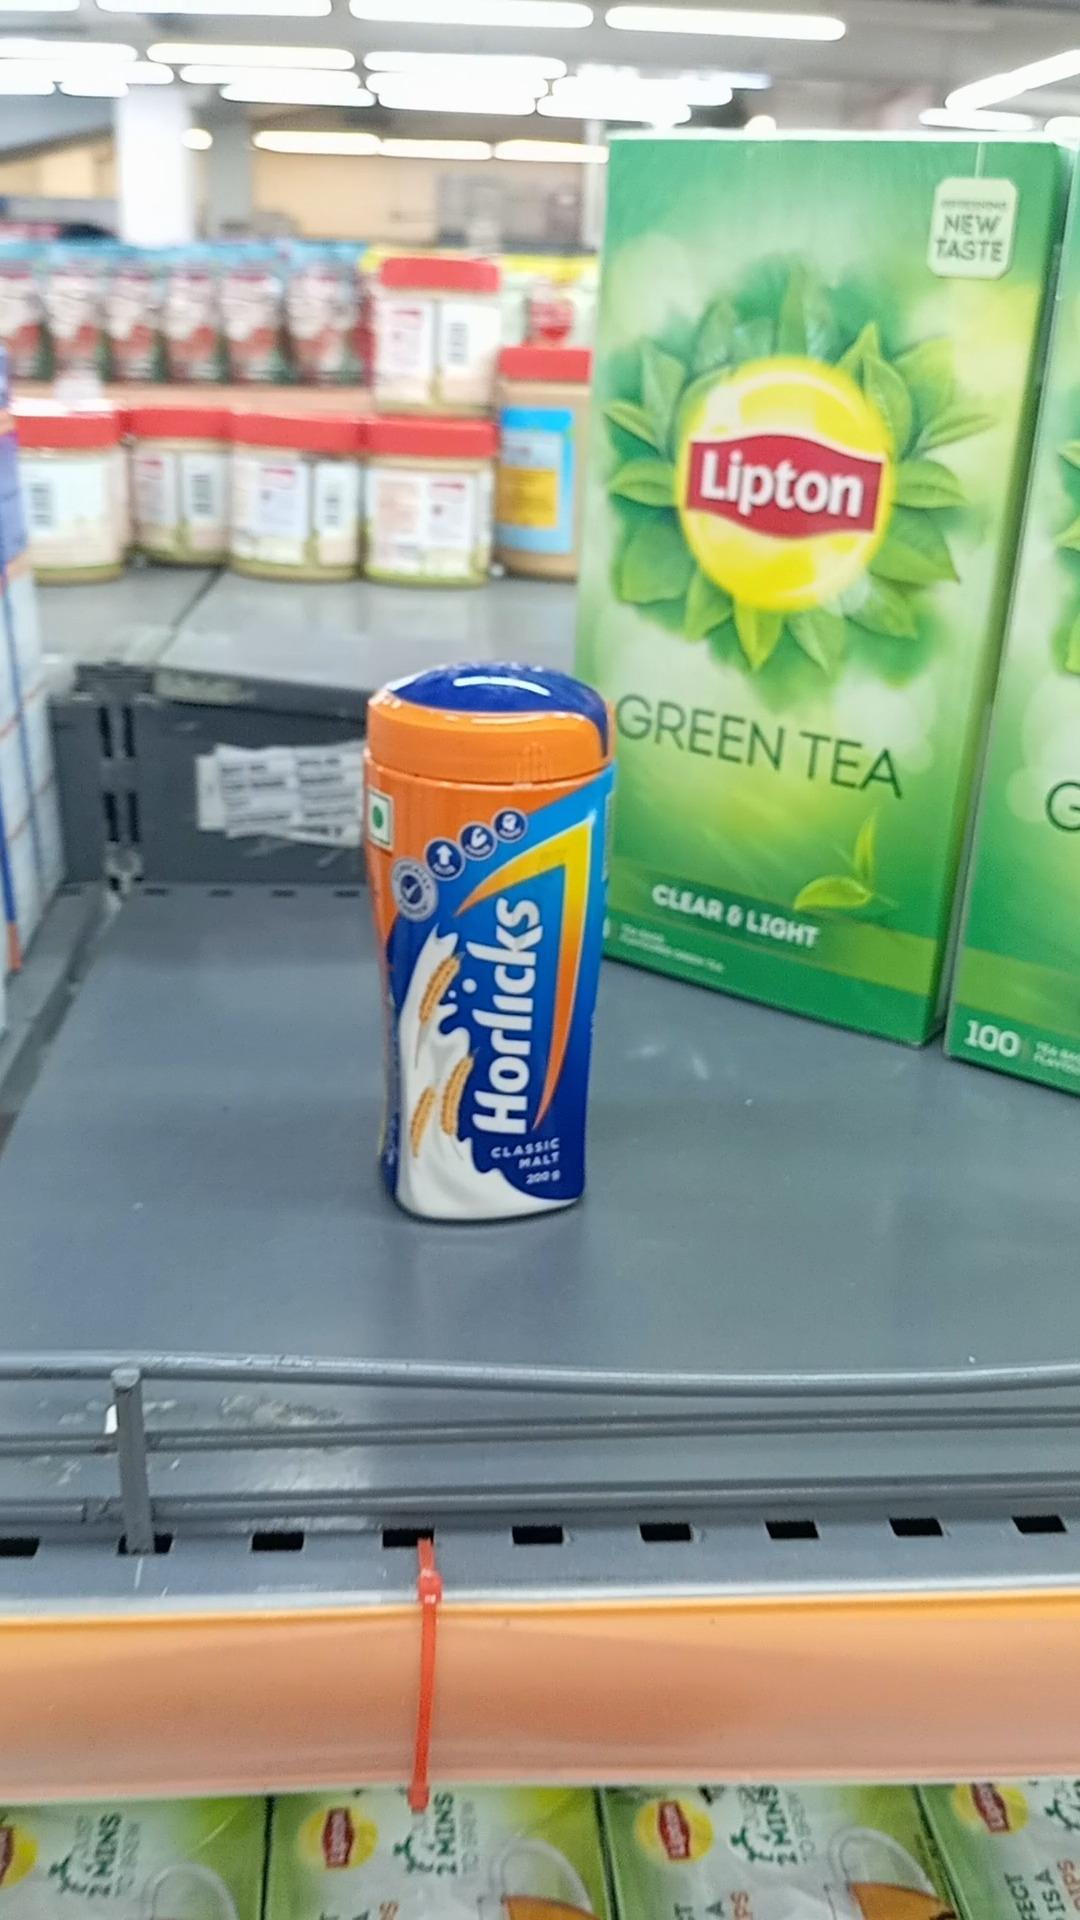HORLICK_CLASSIC_MALT_200_G_JAR: (365, 663, 613, 1220)
